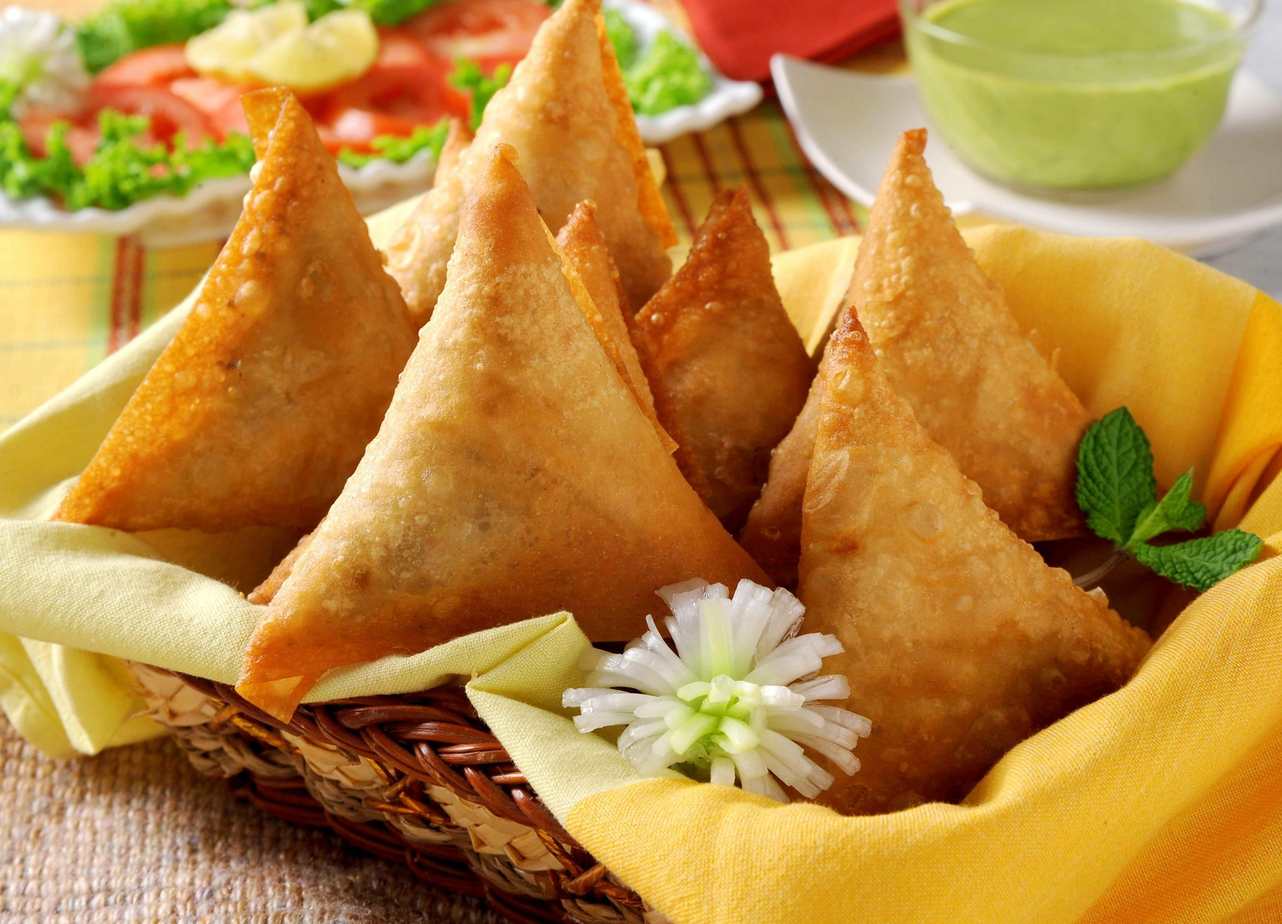Samosa: (242, 146, 784, 722), (793, 309, 1153, 809), (51, 86, 425, 531), (747, 133, 1103, 559), (390, 0, 681, 308), (650, 169, 807, 535)
